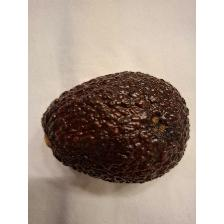Avocado: (40, 66, 192, 188)
